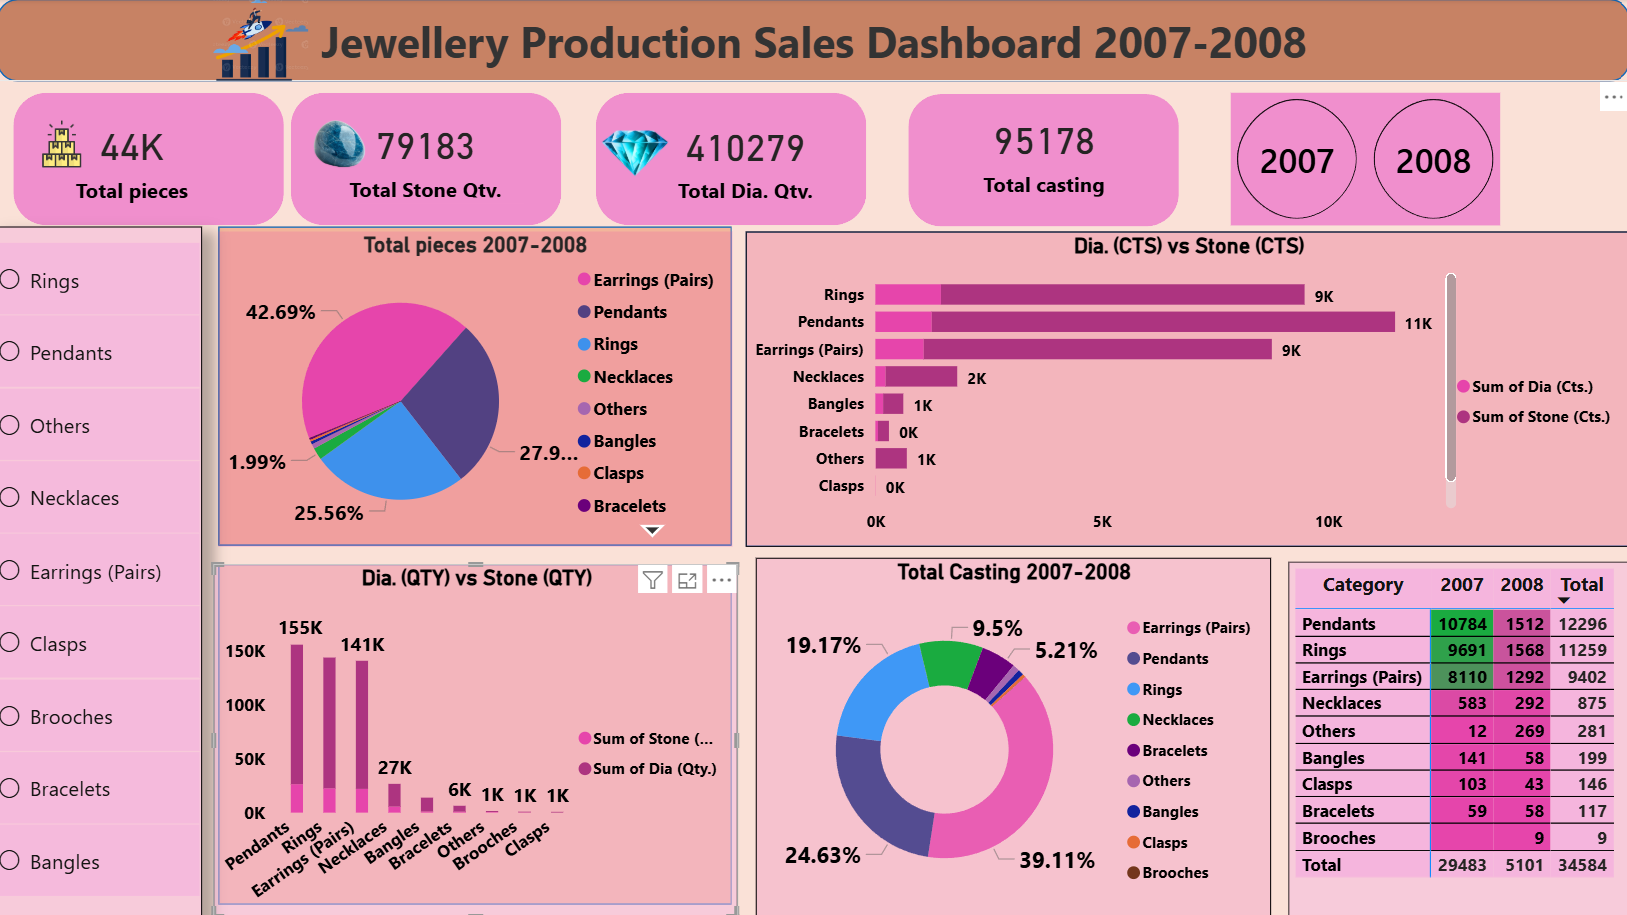

The dashboard page shown, as its layout file describes it:
{"tool":"powerbi","page":{"name":"Page 3","canvas":[1280,720],"ordinal":1},"visuals":[{"type":"shape","box":[12.4,73.4,212.3,103.9],"z":0},{"type":"shape","box":[230.3,73.4,212.3,103.9],"z":1000},{"type":"shape","box":[714.8,74.5,212.3,103.9],"z":2000},{"type":"shape","box":[469.7,73.4,212.3,103.9],"z":3000},{"type":"card","fields":{"Values":["Table.Total pieces"]},"box":[12.4,73.4,186.3,103.9],"z":4000},{"type":"card","fields":{"Values":["Table.Total Stone Qty."]},"box":[258.6,89.2,154.7,71.1],"z":5000},{"type":"card","fields":{"Values":["Table.Total casting"]},"box":[743.3,81,154.6,78.9],"z":6000},{"type":"card","fields":{"Values":["Table.Total Dia. Qty."]},"box":[509.2,90.3,154.7,71.1],"z":7000},{"type":"shape","box":[0,0,1280.7,64.7],"z":8000},{"type":"advancedSlicerVisual","fields":{"Values":["Table.Year"]},"box":[967.3,73.6,211.3,104.1],"z":9000},{"type":"shape","box":[173.5,178.7,402.7,250.2],"z":10000},{"type":"shape","box":[173.5,442.6,402.7,267.1],"z":11000},{"type":"shape","box":[586.7,181.9,692.9,247.1],"z":12000},{"type":"listSlicer","fields":{"Values":["Table.Category"]},"box":[0,178.7,160.9,541.5],"z":13000},{"type":"barChart","title":"Dia. (CTS) vs Stone (CTS)","fields":{"Category":["Table.Category"],"Y":["Sum(Table.Dia (Cts.))","Sum(Table.Stone (Cts.))"]},"box":[587.2,181.8,693.3,247.3],"z":15000},{"type":"donutChart","title":"Total Casting 2007-2008","fields":{"Y":["Sum(Table.Casting)"],"Category":["Table.Category"]},"box":[594.8,438,403.7,282.2],"z":16000},{"type":"ribbonChart","title":"Dia. (QTY) vs Stone (QTY)","fields":{"Category":["Table.Category"],"Y":["Sum(Table.Stone (Qty.))","Sum(Table.Dia (Qty.))"]},"box":[169.5,442.9,411.5,277.3],"z":17000},{"type":"pivotTable","fields":{"Rows":["Table.Category"],"Values":["Sum(Table.Units)"],"Columns":["Table.Year"]},"box":[1012.2,440.9,267.5,279.3],"z":18000},{"type":"image","box":[169.5,0,74.5,63.7],"z":19000},{"type":"image","box":[22,94,58,39],"z":20000},{"type":"image","box":[230.3,88.2,75.4,51],"z":21000},{"type":"image","box":[469.4,102.9,61.7,36.3],"z":22000},{"type":"pieChart","title":"Total pieces 2007-2008","fields":{"Y":["Sum(Table.Pieces)"],"Category":["Table.Category"]},"box":[173.9,181.8,403.1,247.3],"z":22001}]}

Visuals, with their boxes in screenshot pixels (x1, y1, x2, y2), scaled from the page's 1280x720 canvas onto the 1627x915 screenshot:
shape: 16:93:286:225
shape: 293:93:563:225
shape: 909:95:1178:227
shape: 597:93:867:225
card - Table.Total pieces: 16:93:253:225
card - Table.Total Stone Qty.: 329:113:525:204
card - Table.Total casting: 945:103:1141:203
card - Table.Total Dia. Qty.: 647:115:844:205
shape: 0:0:1626:82
advancedSlicerVisual - Table.Year: 1230:94:1498:226
shape: 221:227:732:545
shape: 221:562:732:902
shape: 746:231:1626:545
listSlicer - Table.Category: 0:227:205:914
"Dia. (CTS) vs Stone (CTS)" barChart: 746:231:1626:545
"Total Casting 2007-2008" donutChart: 756:557:1269:914
"Dia. (QTY) vs Stone (QTY)" ribbonChart: 215:563:739:914
pivotTable - Table.Category x Sum(Table.Units): 1287:560:1626:914
image: 215:0:310:81
image: 28:119:102:169
image: 293:112:389:177
image: 597:131:675:177
"Total pieces 2007-2008" pieChart: 221:231:733:545
